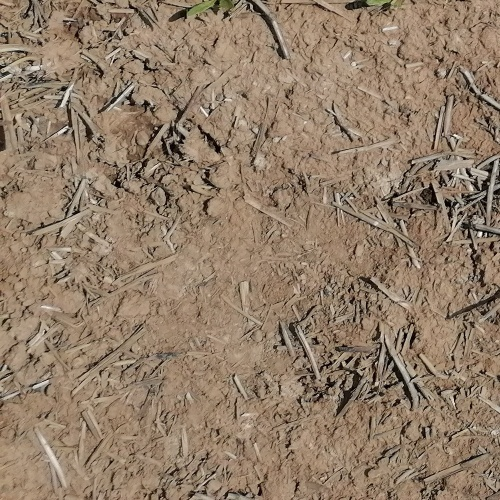beet: (187, 0, 233, 18)
